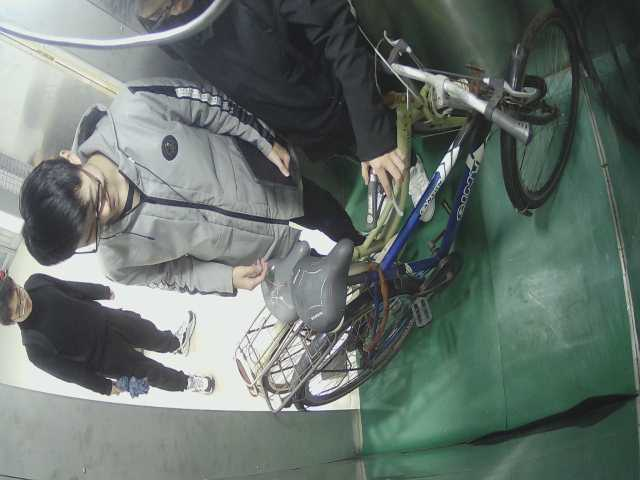bicycle: (226, 10, 580, 424)
person: (28, 78, 301, 262), (7, 266, 212, 393)
